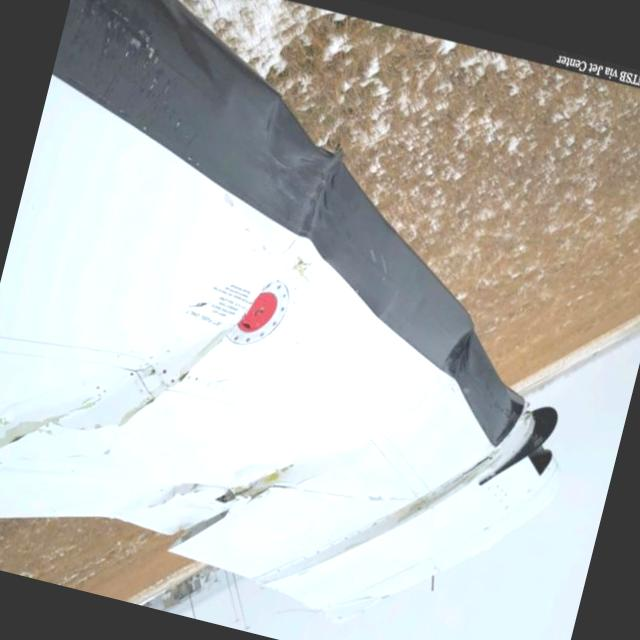crack: (137, 430, 291, 580), (113, 298, 240, 454), (0, 364, 99, 490)
